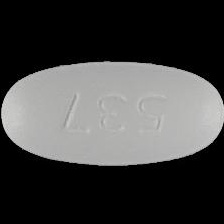53808-0742: (0, 0, 224, 224)
